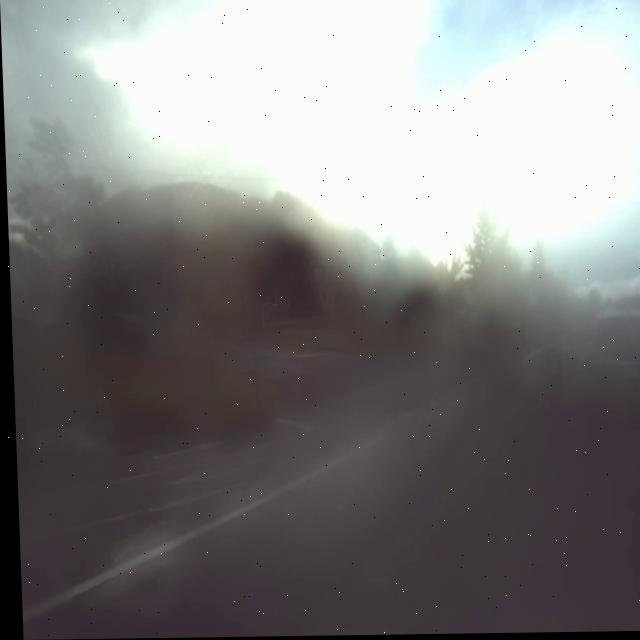car: (581, 296, 640, 432)
